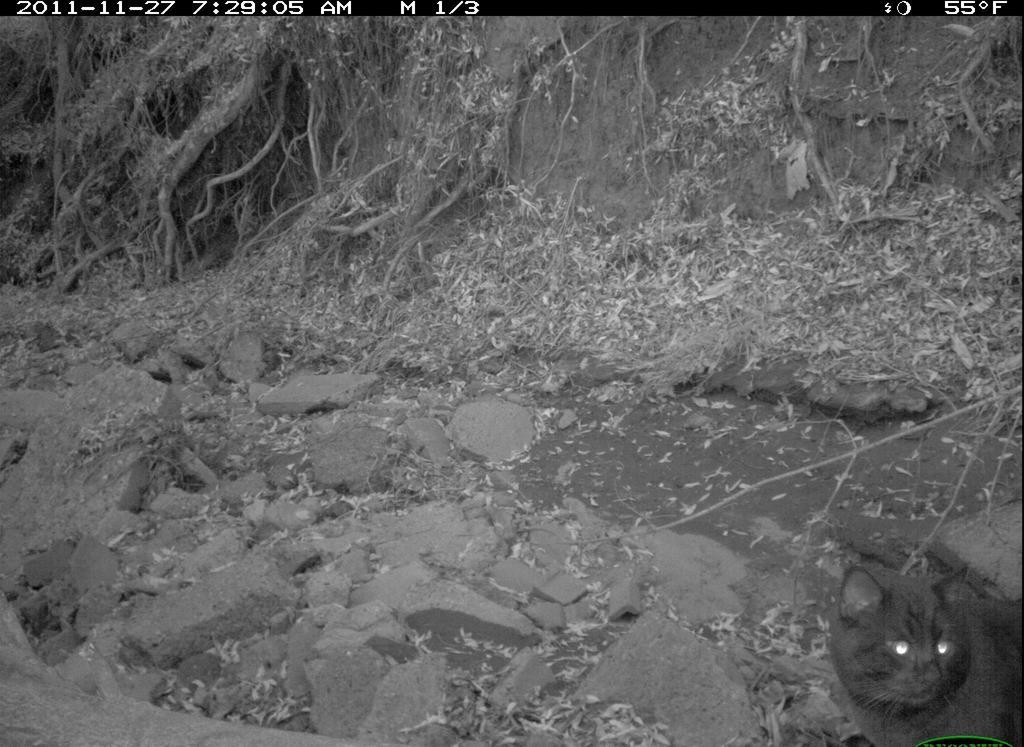cat: (830, 559, 1022, 739)
